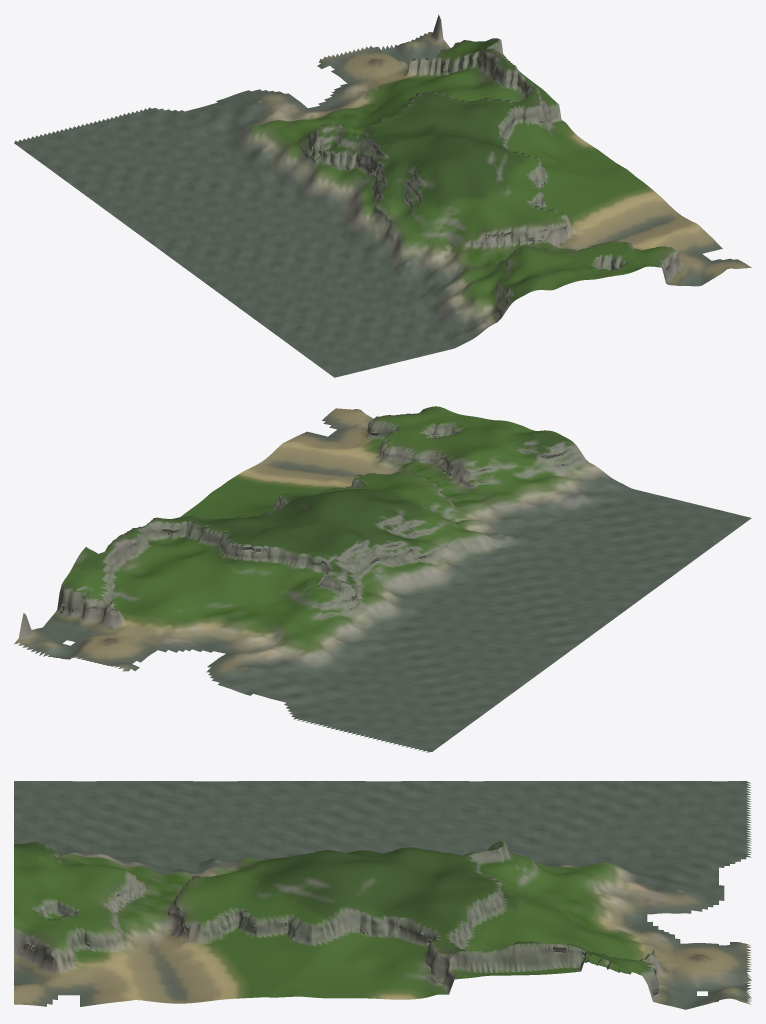
File: coast_tile_x0z2.glb
3 views of the same model, one above another, from view 1: azimuth 30°, elevation 25°; view 2: azimuth 150°, elevation 25°; view 3: azimuth 270°, elevation 25° (orthographic). The views are drawn at different scales.
Parts seen in each view (by area): view 1: coast_tile_x0z2; view 2: coast_tile_x0z2; view 3: coast_tile_x0z2.
Boxes of the visible parts, left/top/right/bottom form: coast_tile_x0z2: left=14, top=14, right=751, bottom=377; coast_tile_x0z2: left=14, top=406, right=751, bottom=752; coast_tile_x0z2: left=14, top=781, right=751, bottom=1009.
Size of the model in its own units: 600 by 82.37 by 804.
